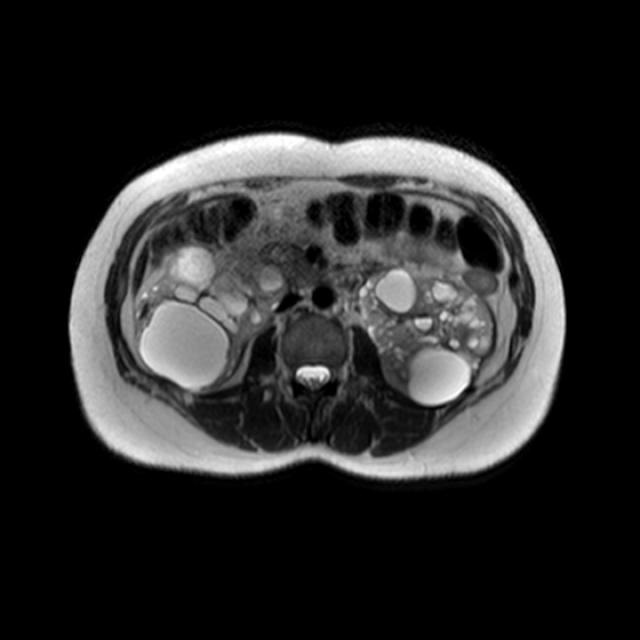sag: (133, 238, 288, 392)
sol: (359, 267, 497, 406)
